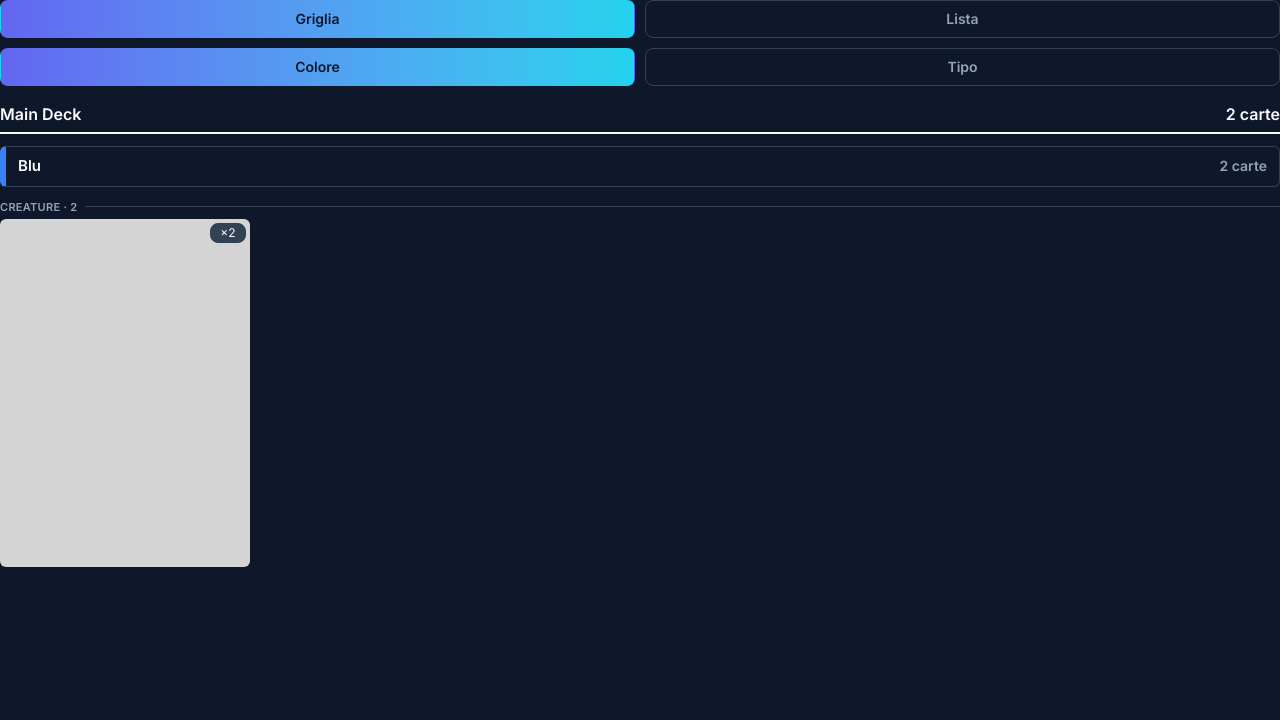
Registro card controls with pinned identities › keeps grid/list and color/type controls, front/back viewing and statistics working
Click the button "Lista": (962, 19) x1=645 y1=0 x2=1279 y2=38
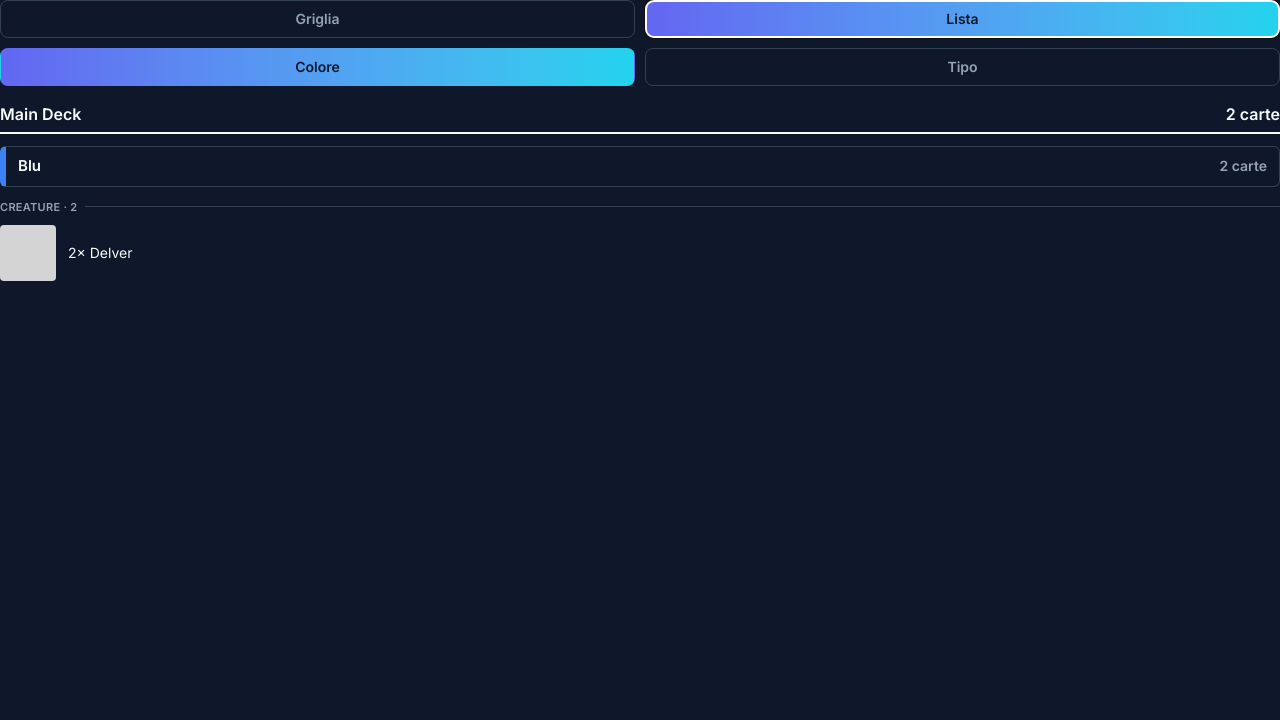
Click the button "Tipo": (962, 67) x1=645 y1=48 x2=1279 y2=86
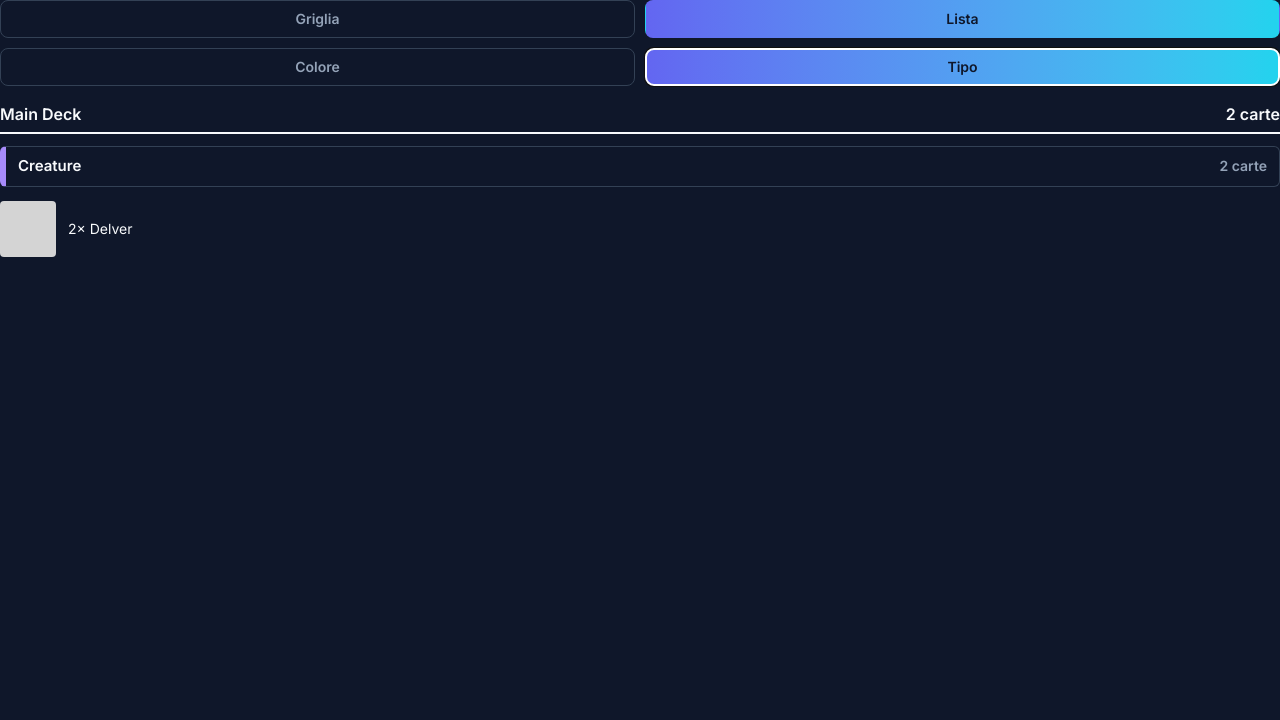
Click the button "2× Delver": (28, 228) x1=0 y1=200 x2=1279 y2=256
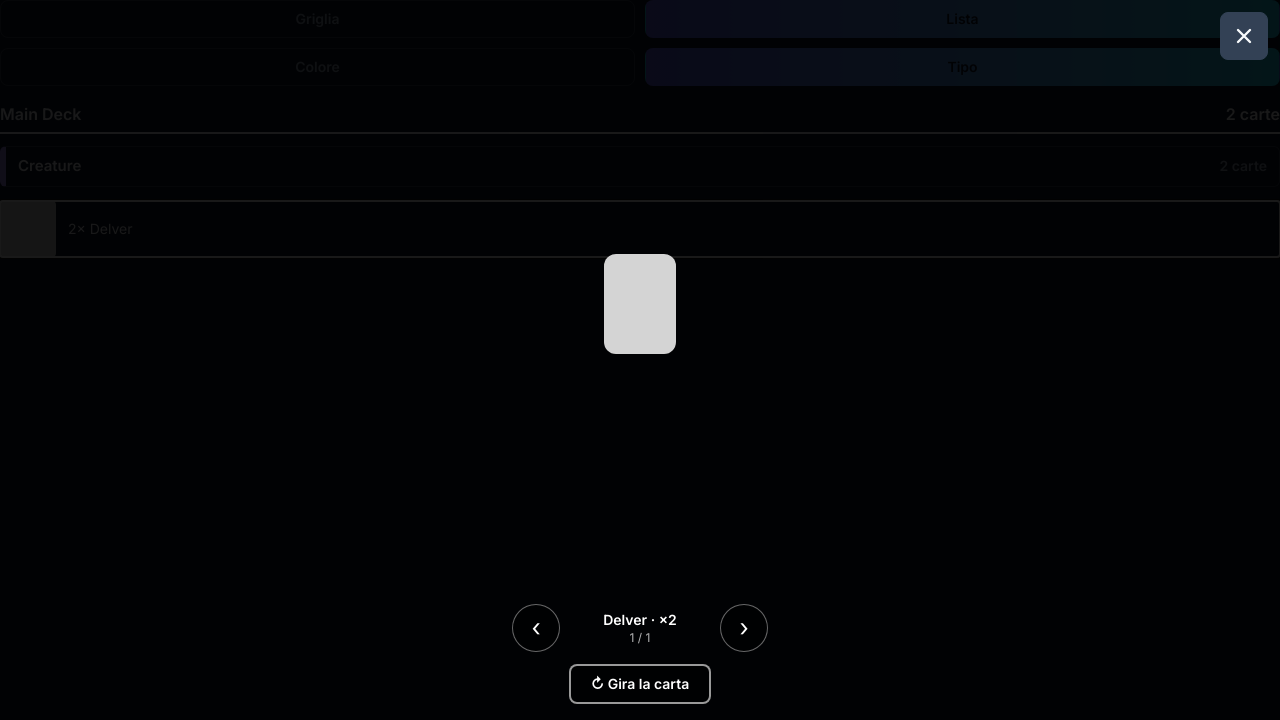
Click the button "↻ Gira la carta": (640, 684) x1=569 y1=664 x2=711 y2=704
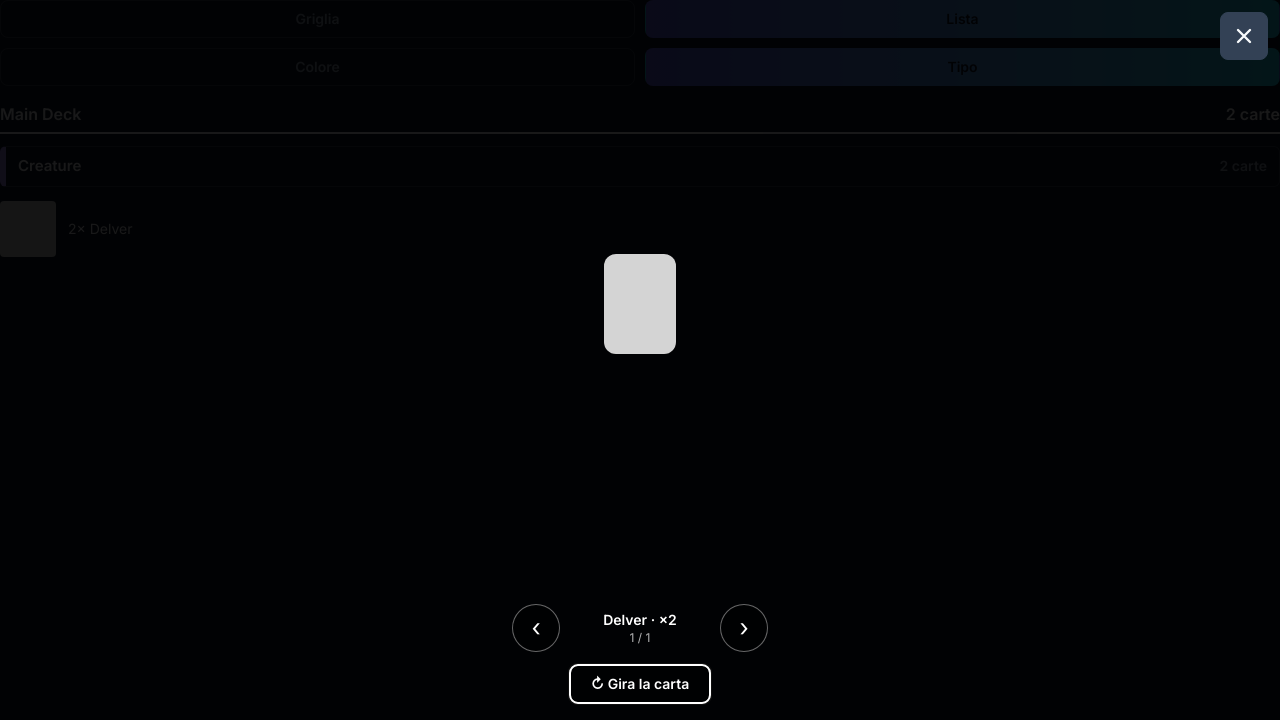
Press Escape
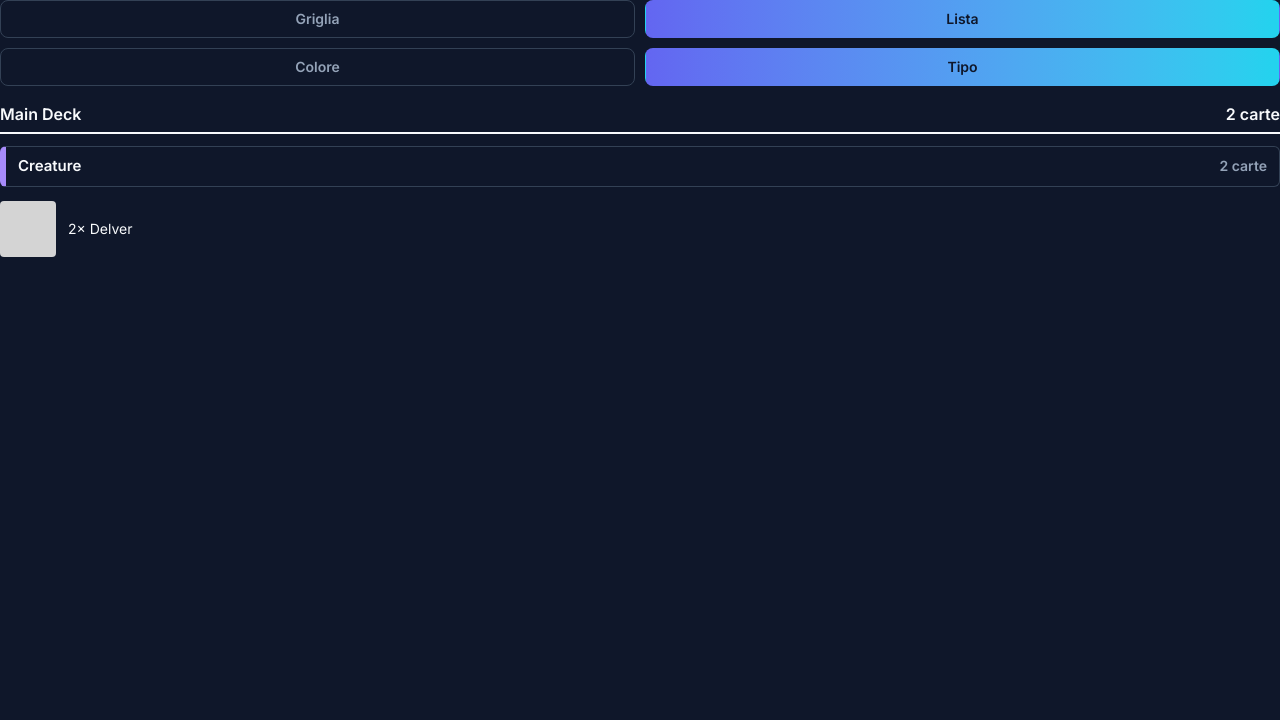
Check: the dialog is gone
